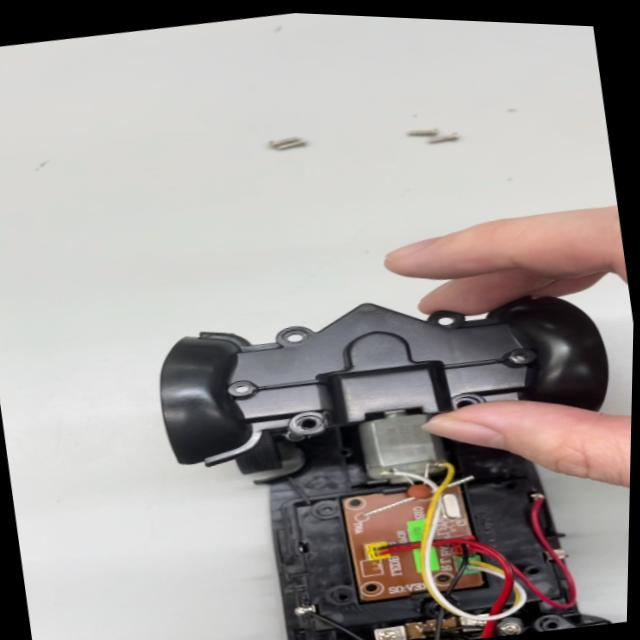motor_cover: (139, 269, 618, 481)
